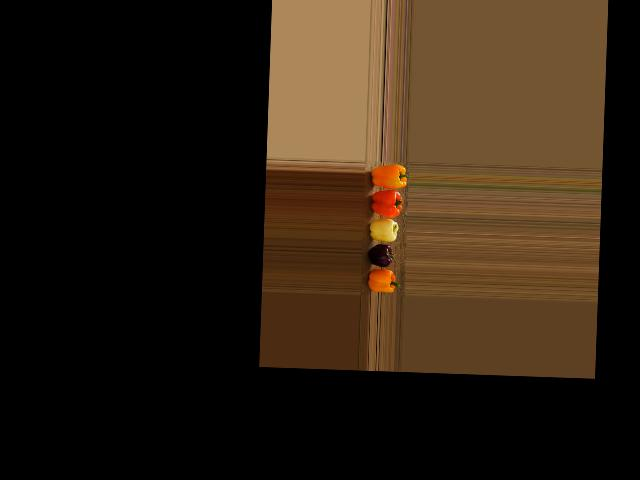bell_pepper: (361, 270, 401, 295)
